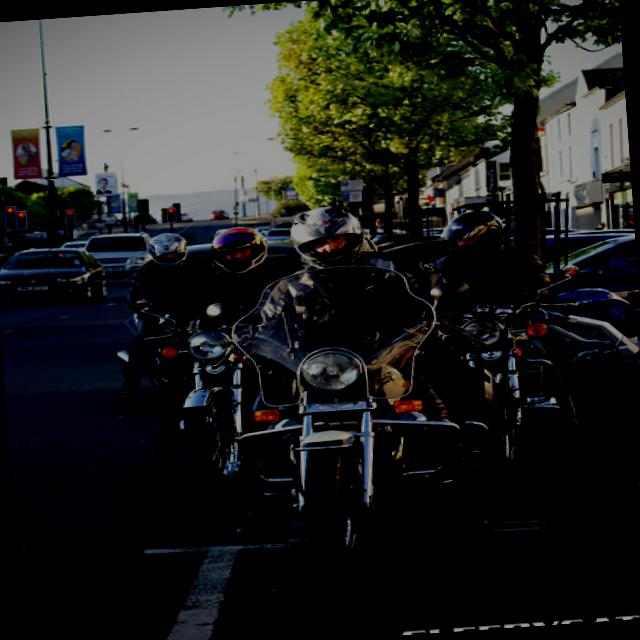Vehicle: (224, 255, 479, 584), (430, 257, 631, 473), (129, 289, 270, 500), (536, 283, 640, 401), (0, 242, 106, 307), (542, 230, 638, 295), (108, 332, 172, 392), (82, 232, 154, 278), (382, 238, 454, 266), (372, 226, 448, 250), (260, 225, 291, 242)
